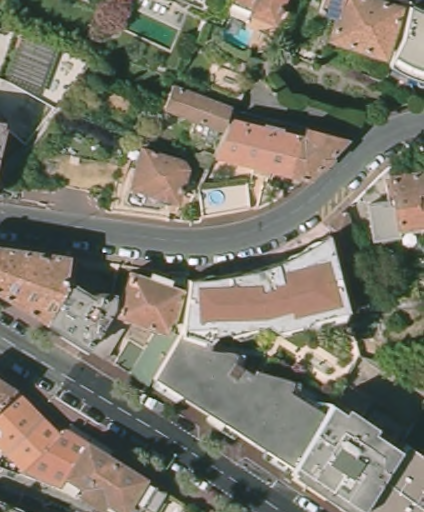pool: (222, 16, 261, 51), (206, 187, 228, 205)
